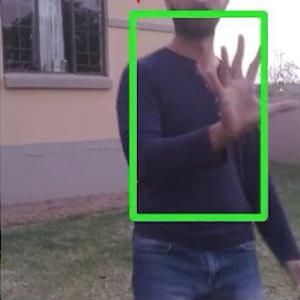follow_hand: (199, 27, 299, 133)
